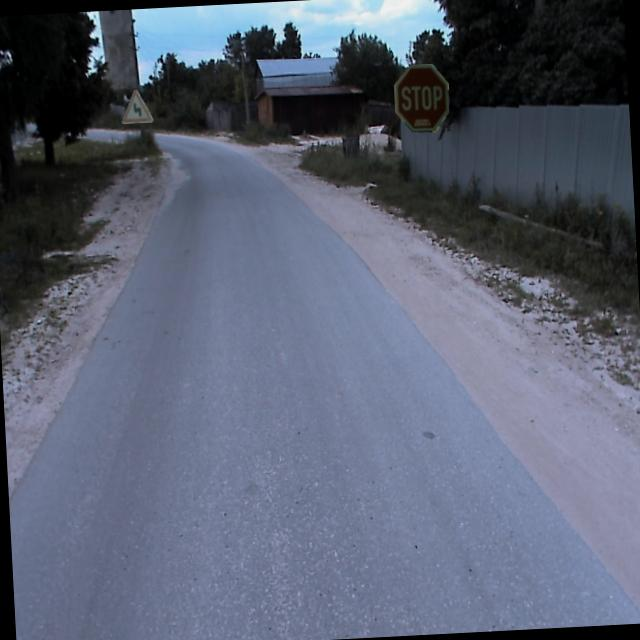road: (9, 135, 640, 640)
